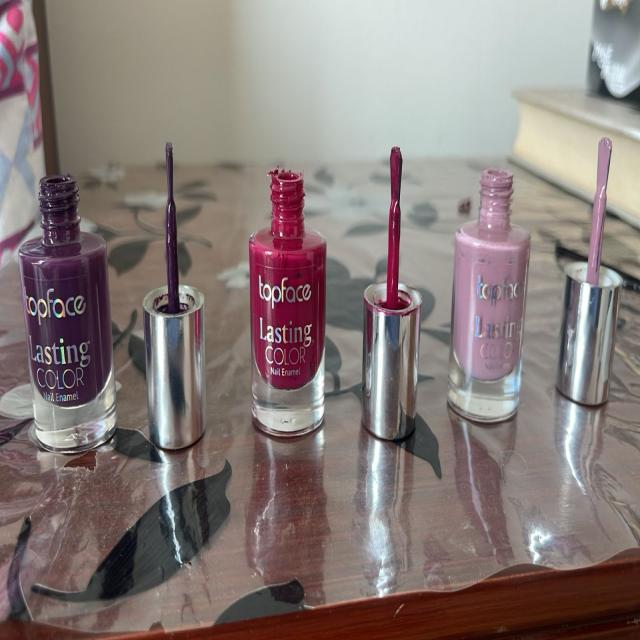nail polish: (14, 155, 118, 458), (240, 143, 342, 442), (439, 143, 537, 432), (346, 127, 434, 446), (551, 116, 632, 447), (142, 127, 210, 480), (361, 102, 430, 273), (135, 111, 212, 244), (567, 105, 628, 258)
